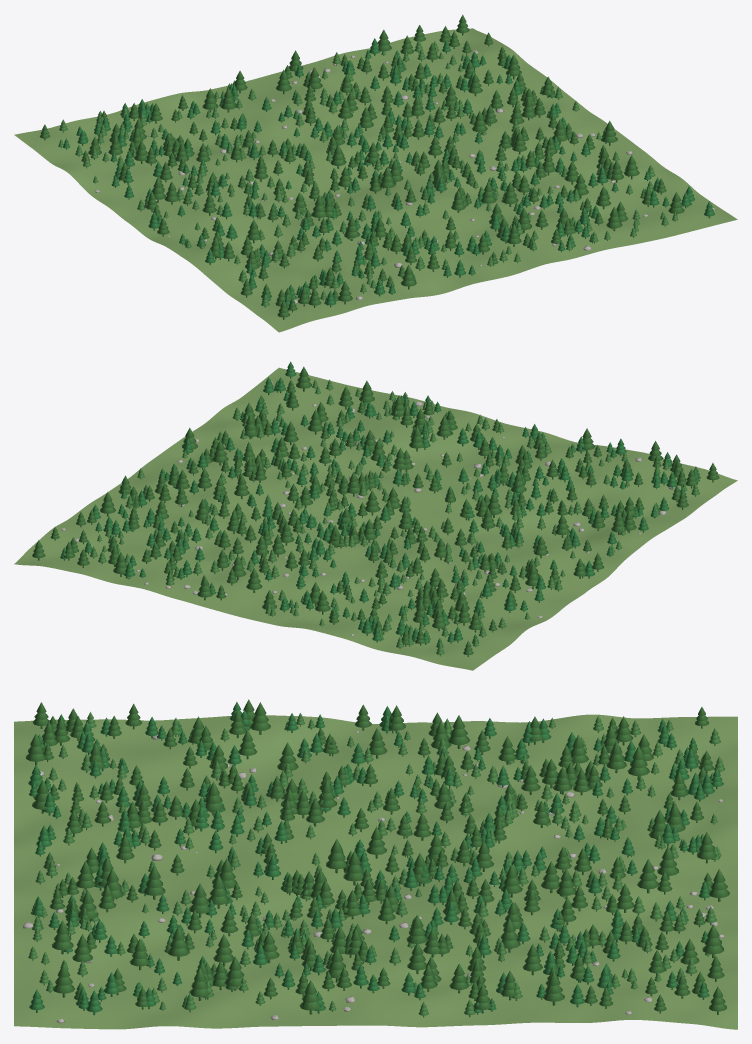
The picture shows the model from 3 angles, top to bottom: view 1: azimuth 30°, elevation 25°; view 2: azimuth 150°, elevation 25°; view 3: azimuth 270°, elevation 25°; orthographic projection. The views are drawn at different scales.
Visible parts, largest first — view 1: Terrain; view 2: Terrain; view 3: Terrain.
Boxes of the visible parts, bbox=[...] form: Terrain: bbox=[14, 28, 737, 332]; Terrain: bbox=[14, 367, 737, 670]; Terrain: bbox=[14, 714, 737, 1029].
Size of the model in its own units: 240 by 17.71 by 240.
